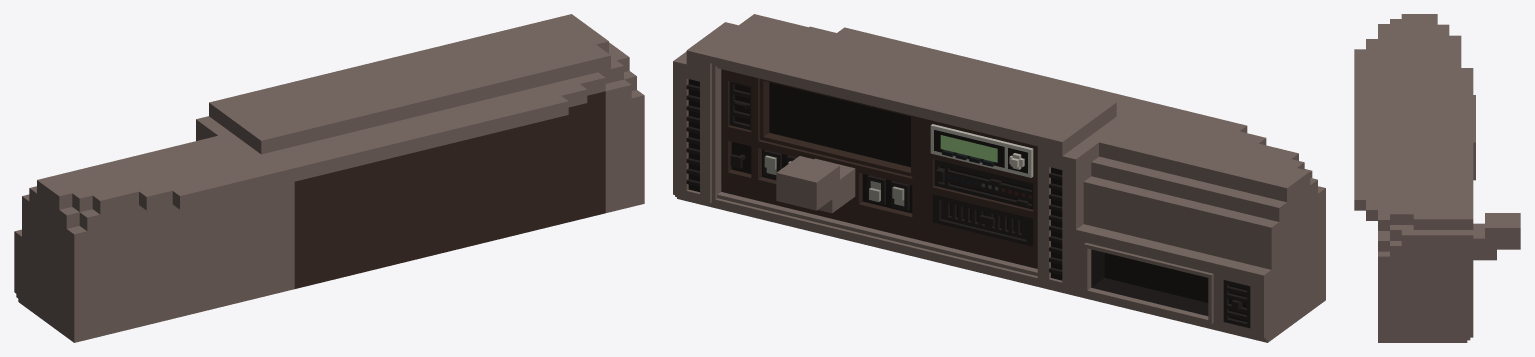
The model's file is dash.glb.
3 renders of one model, left to right at view 1: azimuth 30°, elevation 25°; view 2: azimuth 150°, elevation 25°; view 3: azimuth 270°, elevation 25°, orthographic. The views are drawn at different scales.
Visible parts, largest first — view 1: dash; view 2: dash; view 3: dash.
Boxes of the visible parts, <box> form: dash: <box>14,14,644,342</box>; dash: <box>673,14,1325,342</box>; dash: <box>1354,14,1520,342</box>.
Size of the model in its own units: 17.6 by 4.4 by 5.6.
